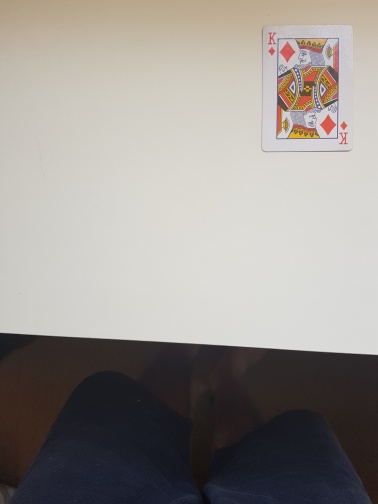king: (258, 24, 355, 154)
